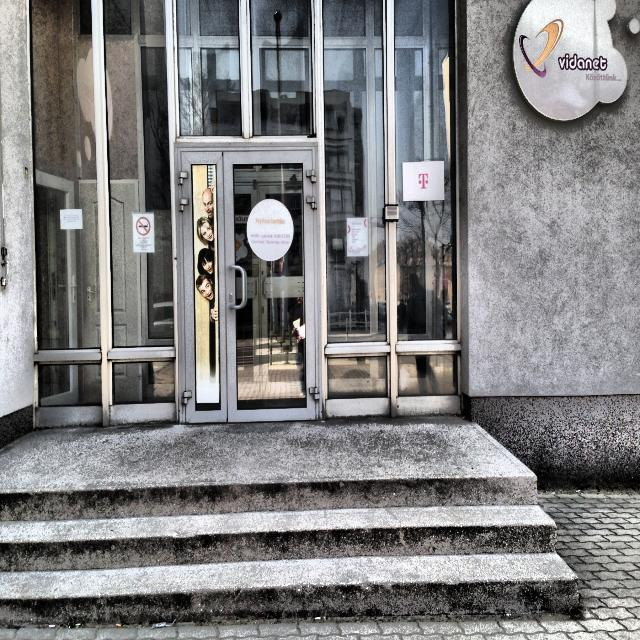escada: (1, 485, 577, 624)
